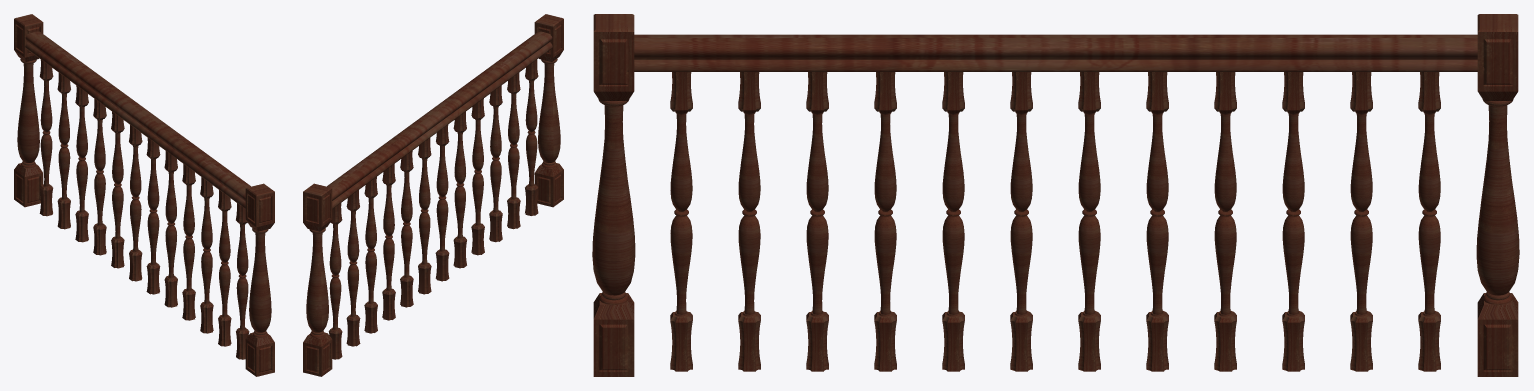
File: railing.fbx
3 views of the same model, side by side, from view 1: azimuth 30°, elevation 25°; view 2: azimuth 150°, elevation 25°; view 3: azimuth 270°, elevation 25° (orthographic). The views are drawn at different scales.
Parts seen in each view (by area): view 1: BézierCurve.012; view 2: BézierCurve.012; view 3: BézierCurve.012.
Part boxes in pixels (left/top/right/bottom): BézierCurve.012: left=14, top=14, right=274, bottom=376; BézierCurve.012: left=303, top=14, right=563, bottom=376; BézierCurve.012: left=592, top=14, right=1519, bottom=376.
Bounding box in the file's own units: 1049 × 433 × 48.77.
Materials: 1 (1 with a texture image).
